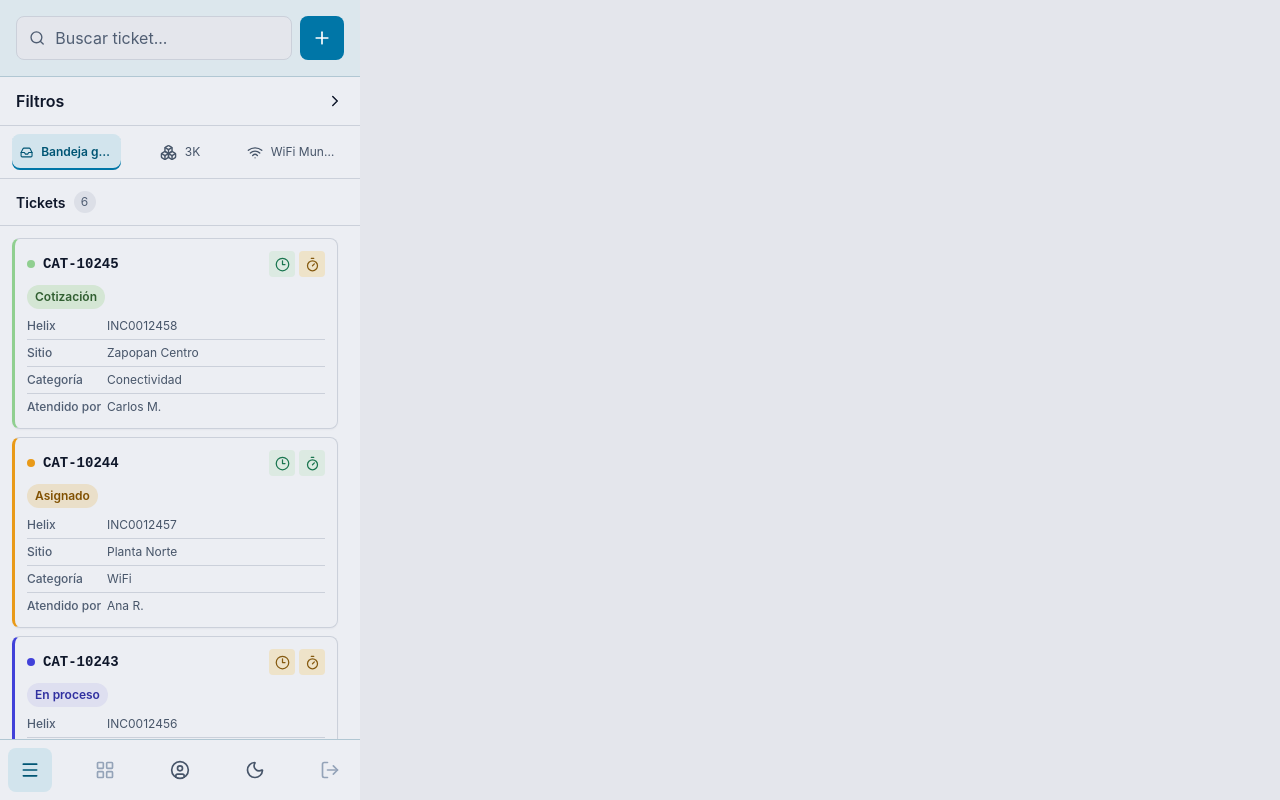
Test case: Sidebar › shows crew release to an analyst while hiding NOC Online
The image size is (1280, 800).
(page scrolled)
Click the button named "Desplegar menú" at (30, 770), box top-left (8, 748), bottom-right (52, 792)
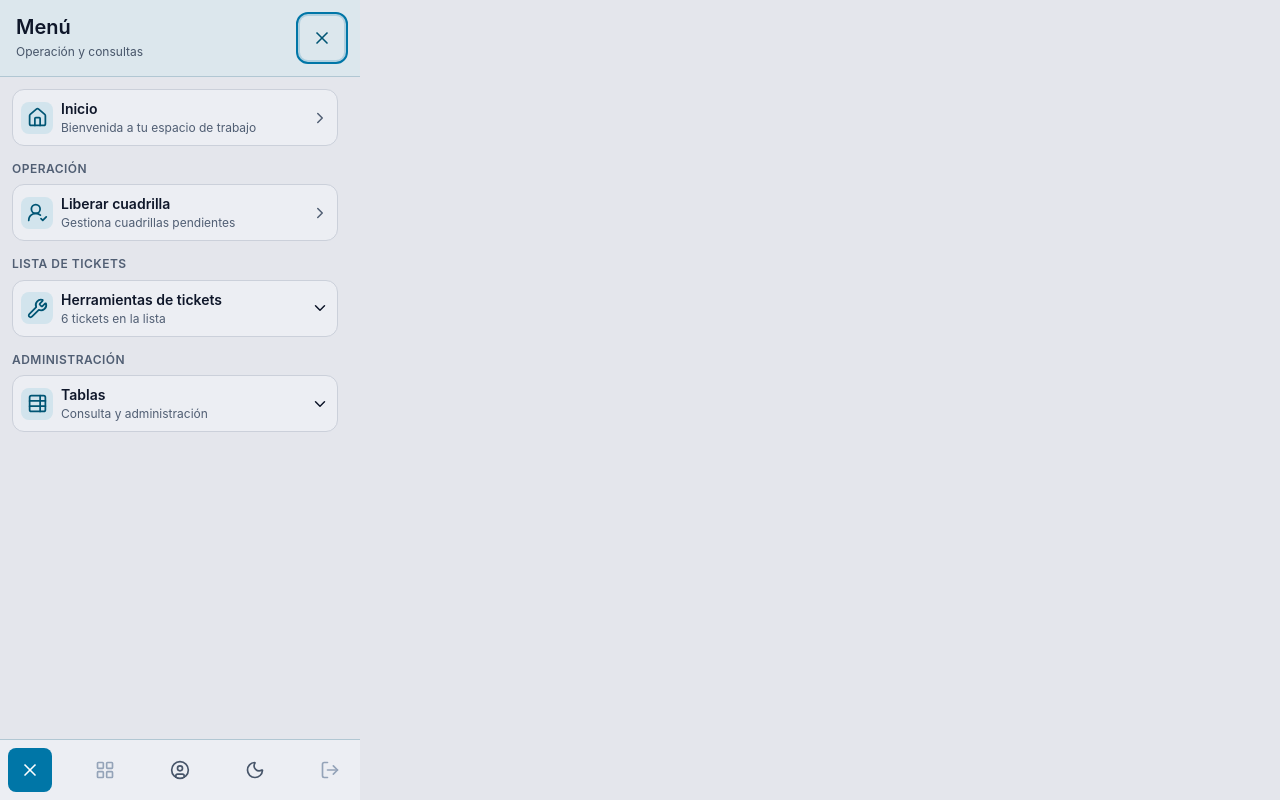
Click the button "Liberar cuadrilla Gestiona cuadrillas pendientes" at (175, 213), box top-left (12, 184), bottom-right (338, 241)
(page scrolled)
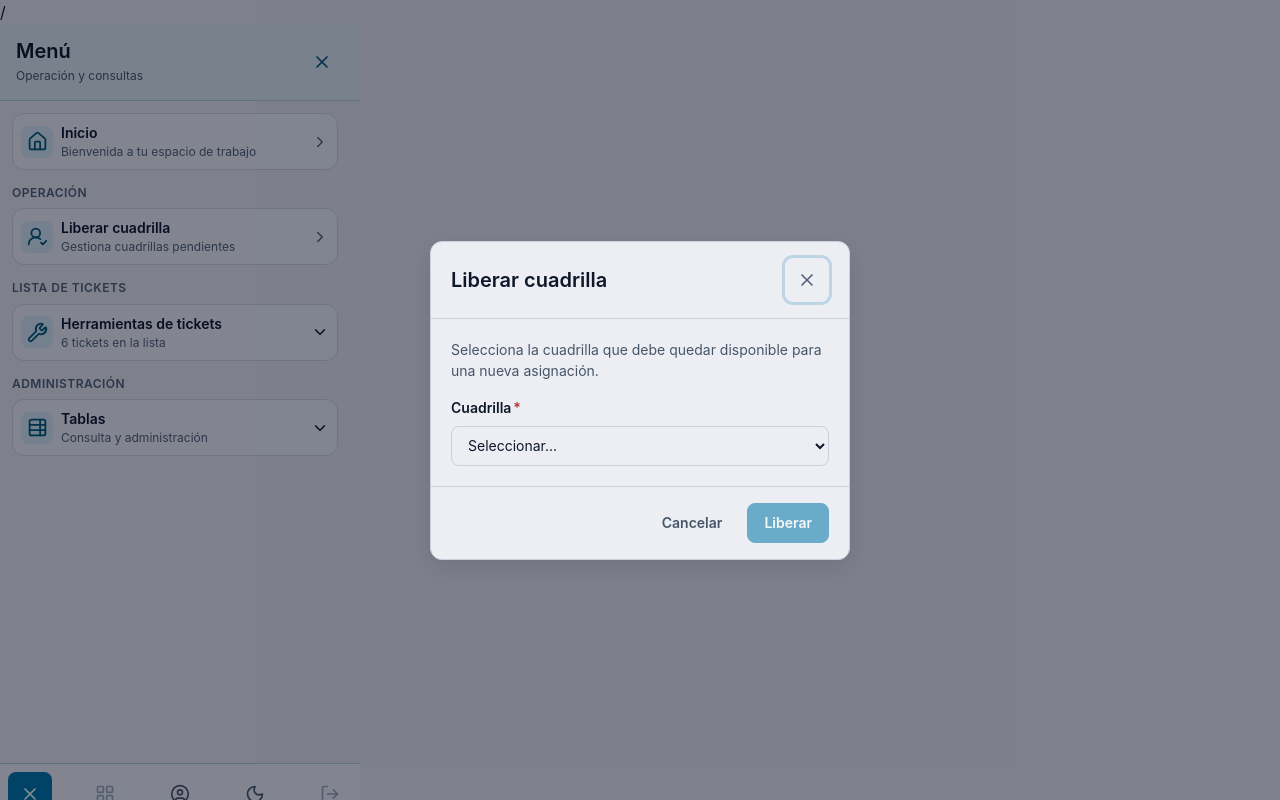
Expected: the dialog "Liberar cuadrilla" is shown, top-left (430, 240), bottom-right (850, 560)
